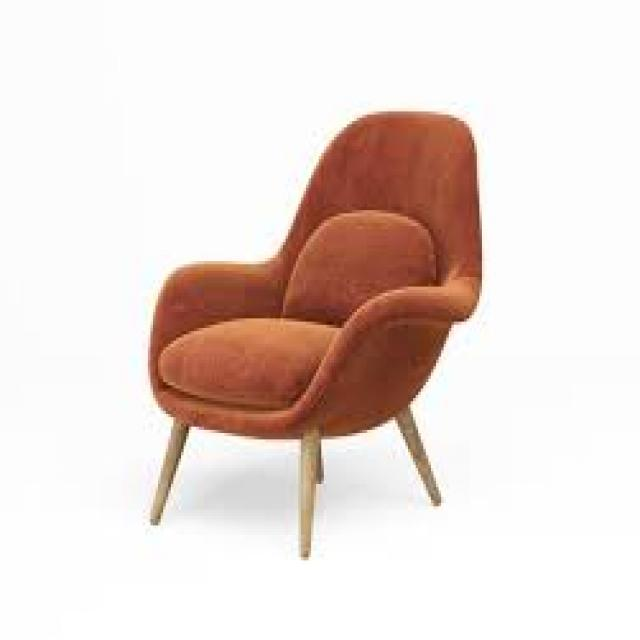chair: (140, 106, 484, 563)
